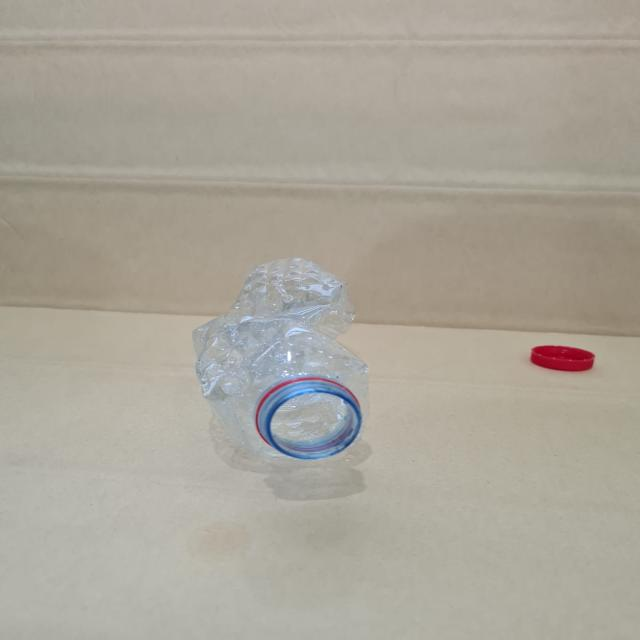plastic bottle: (187, 253, 374, 482)
